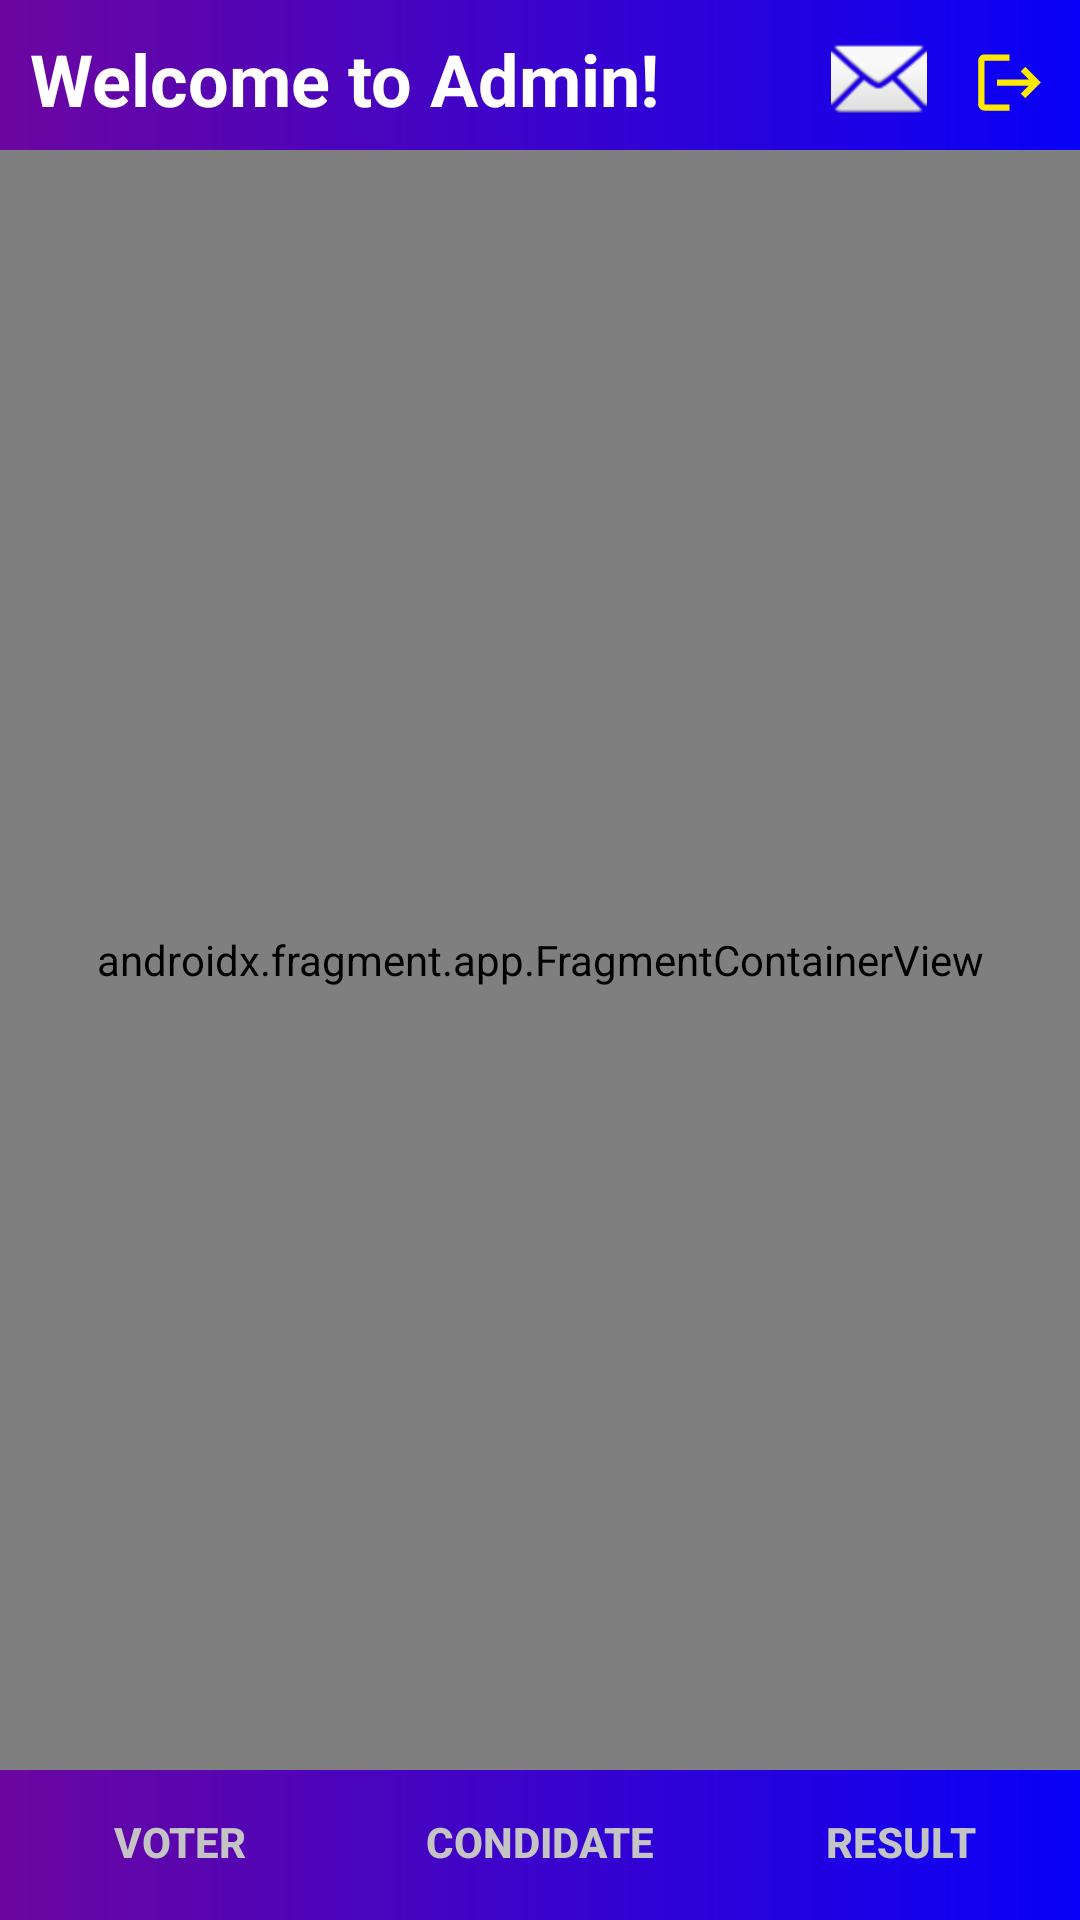

Where icons sit on this 1080w x 1920h app screen, as (x1, y1, x2, y2):
email: (831, 45, 927, 113)
